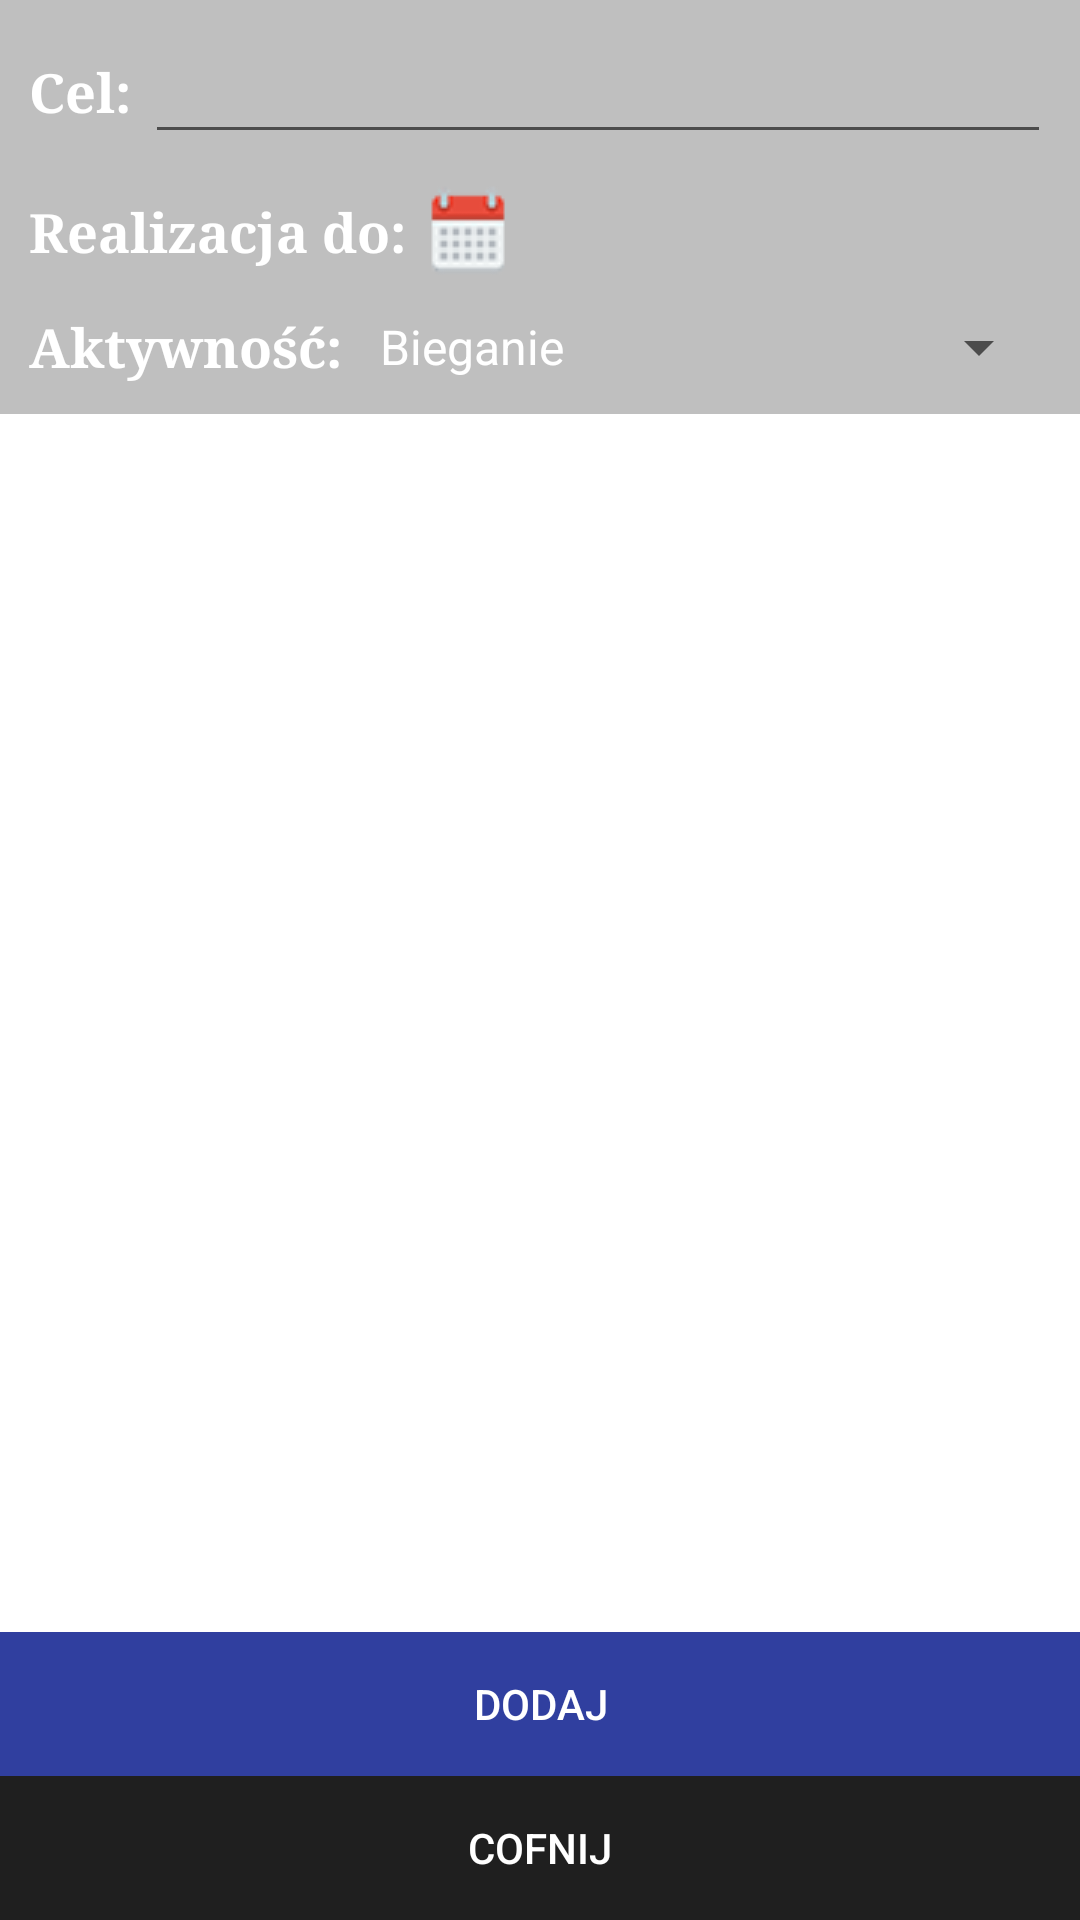

Icon click points for this 1080x1920 phone screenshot, format (x=x, y=y):
calendar: (x=468, y=231)
